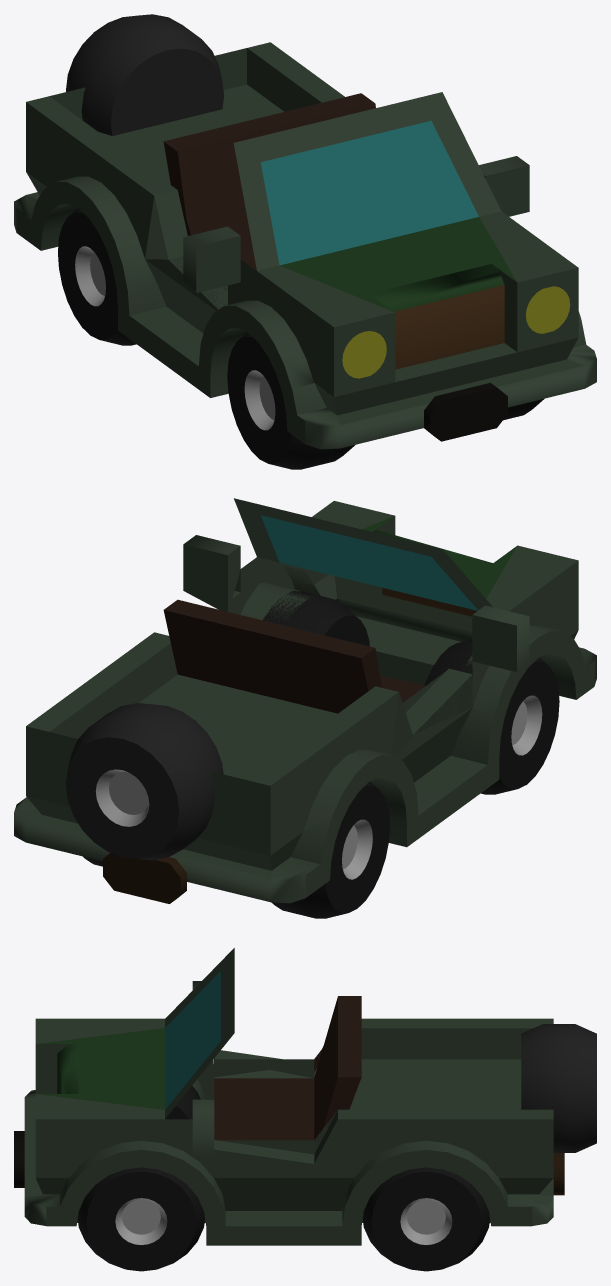
Rendered from jeep.glb.
The picture shows the model from 3 angles, top to bottom: view 1: azimuth 30°, elevation 25°; view 2: azimuth 150°, elevation 25°; view 3: azimuth 270°, elevation 25°; orthographic projection. The views are drawn at different scales.
Parts seen in each view (by area): view 1: body, wheel-back, wheel-front-right, wheel-back-right; view 2: body, wheel-back, wheel-front-right, wheel-back-right, wheel-front-left; view 3: body, wheel-back-left, wheel-front-left, wheel-back, wheel-front-right.
Boxes of the visible parts, left/top/right/bottom form: body: left=14, top=42, right=596, bottom=449; wheel-back: left=66, top=14, right=224, bottom=135; wheel-front-right: left=227, top=332, right=354, bottom=469; wheel-back-right: left=58, top=208, right=136, bottom=345; body: left=14, top=498, right=596, bottom=903; wheel-back: left=66, top=703, right=223, bottom=860; wheel-front-right: left=424, top=639, right=559, bottom=794; wheel-back-right: left=271, top=782, right=389, bottom=918; wheel-front-left: left=263, top=591, right=369, bottom=646; body: left=14, top=948, right=564, bottom=1245; wheel-back-left: left=362, top=1167, right=490, bottom=1271; wheel-front-left: left=77, top=1167, right=204, bottom=1271; wheel-back: left=521, top=1024, right=596, bottom=1152; wheel-front-right: left=165, top=1086, right=200, bottom=1119.
Size of the model in its own units: 1.5 by 1.2 by 2.7.
Materials: 1 (1 with a texture image).
